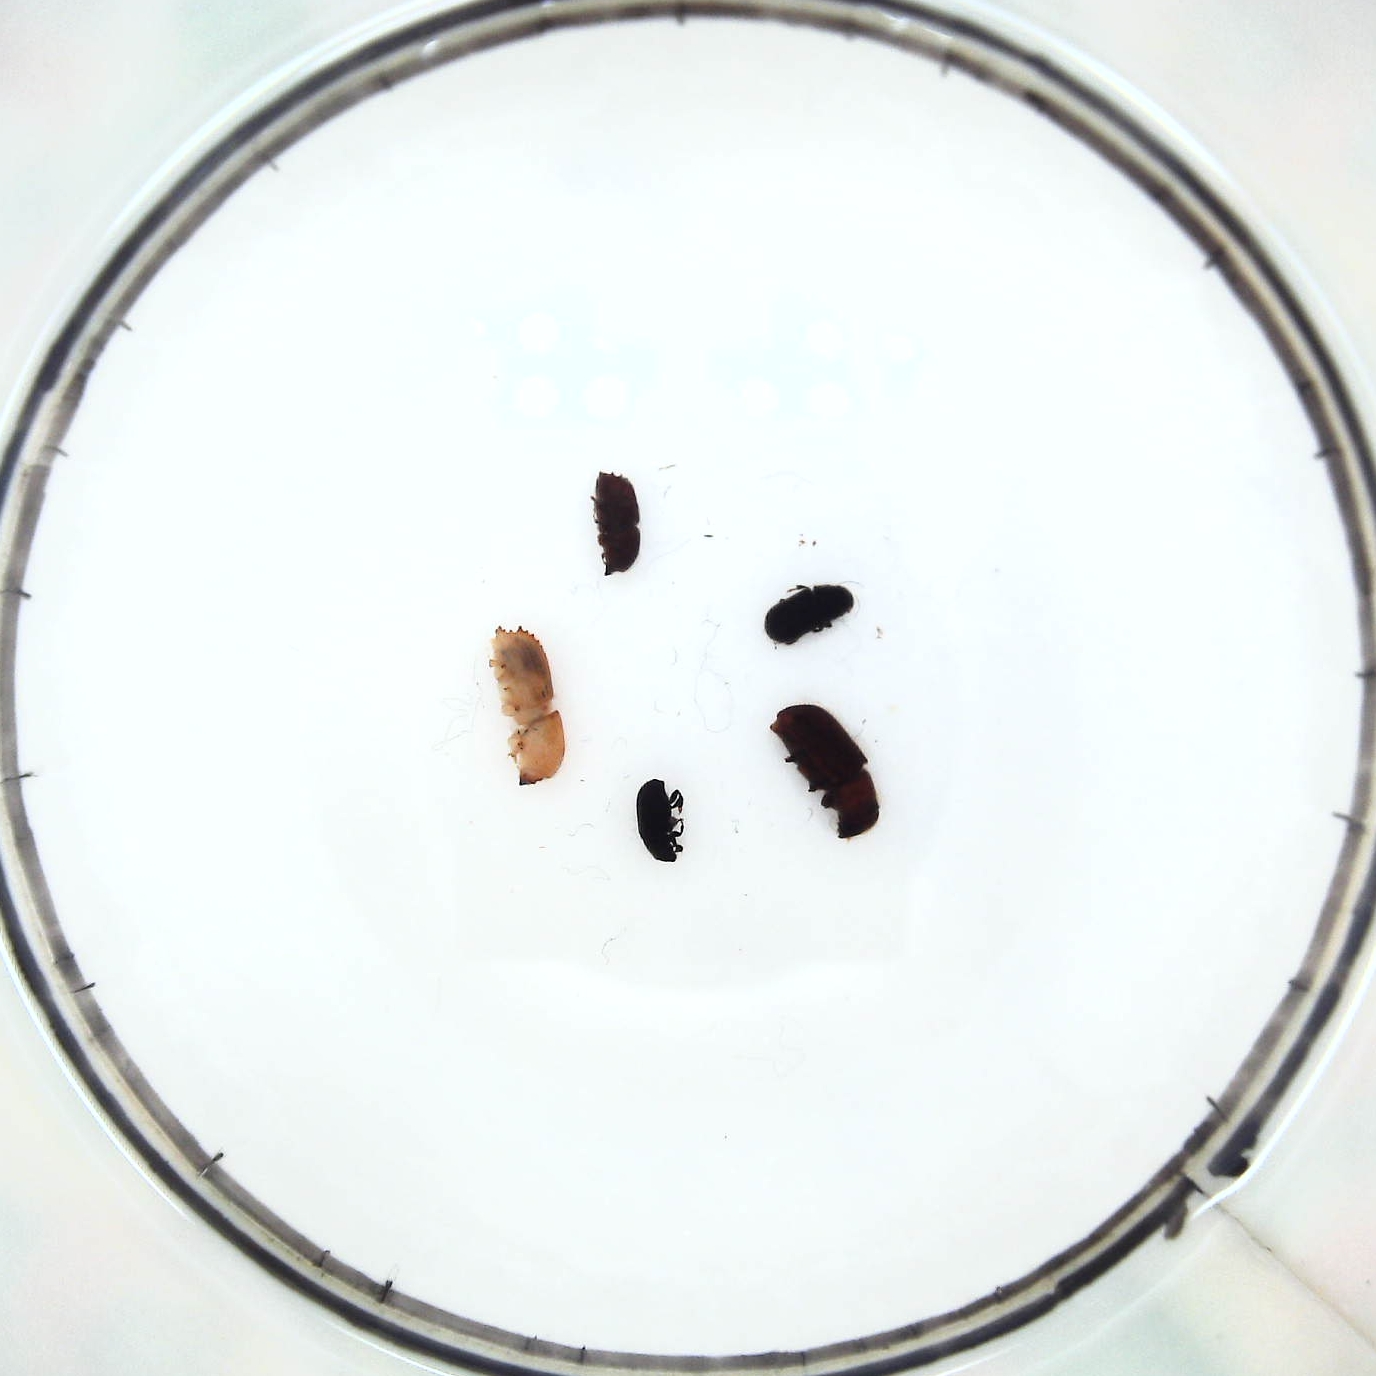Boerner: (486, 622, 566, 786)
Leconte: (765, 703, 883, 843)
Linnaeus: (593, 466, 646, 576)
armandi: (760, 583, 854, 641)
coleoptera: (635, 779, 691, 867)
